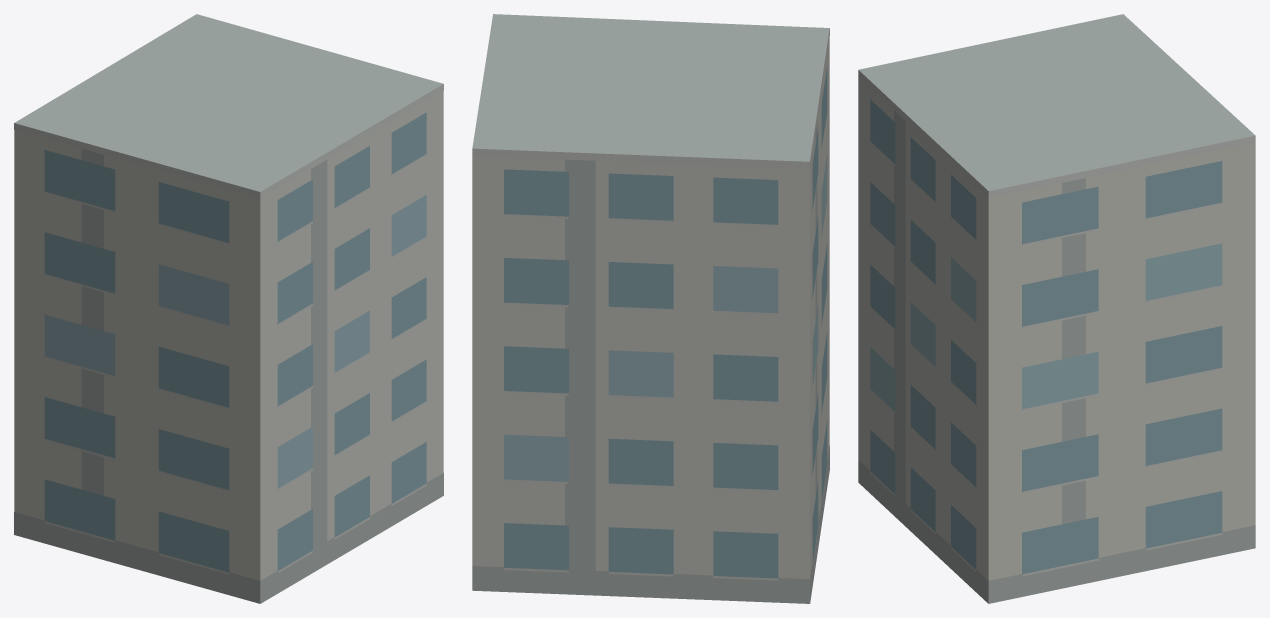
The model's file is survey-upis-32544345.glb.
The picture shows the model from 3 angles, left to right: view 1: azimuth 30°, elevation 25°; view 2: azimuth 150°, elevation 25°; view 3: azimuth 270°, elevation 25°; orthographic projection. The views are drawn at different scales.
Parts seen in each view (by area): view 1: survey-upis-32544345.tmp; view 2: survey-upis-32544345.tmp; view 3: survey-upis-32544345.tmp.
Boxes of the visible parts, box(x1,y1,x2,y2) form: survey-upis-32544345.tmp: box(14, 14, 443, 603); survey-upis-32544345.tmp: box(472, 14, 829, 603); survey-upis-32544345.tmp: box(858, 14, 1255, 603).
Bounding box in the file's own units: 13.36 × 14.5 × 12.66.
